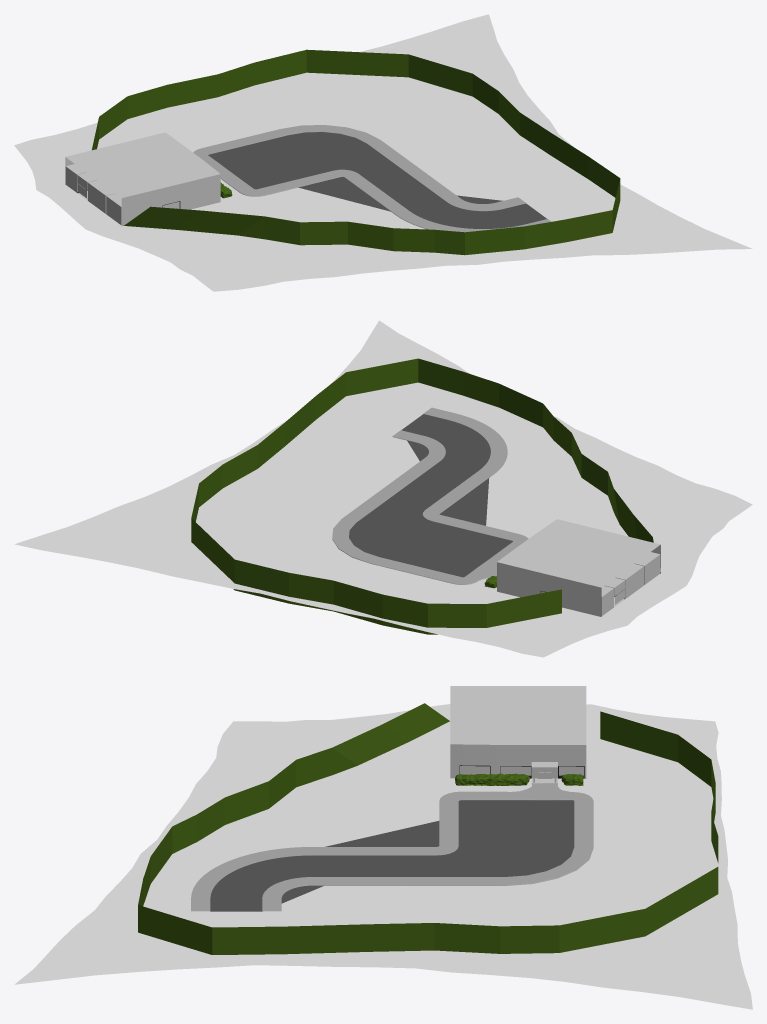
The model's file is OfficeRoom.fbx.
The picture shows the model from 3 angles, top to bottom: view 1: azimuth 30°, elevation 25°; view 2: azimuth 150°, elevation 25°; view 3: azimuth 270°, elevation 25°; orthographic projection. The views are drawn at different scales.
Visible parts, largest first — view 1: Ground, GreenWall, Road, OfficeRoom; view 2: Ground, GreenWall, Road, OfficeRoom; view 3: Ground, GreenWall, Road, OfficeRoom, Shrub.
Part boxes in pixels (x1,y1,x2,y2): Ground: [14, 14, 752, 291]; GreenWall: [92, 49, 620, 255]; Road: [193, 125, 551, 232]; OfficeRoom: [65, 132, 220, 226]; Ground: [14, 320, 752, 657]; GreenWall: [191, 358, 653, 634]; Road: [332, 407, 528, 584]; OfficeRoom: [497, 519, 660, 616]; Ground: [14, 704, 752, 1009]; GreenWall: [138, 703, 718, 954]; Road: [191, 783, 593, 911]; OfficeRoom: [450, 686, 586, 782]; Shrub: [455, 773, 529, 785].
Size of what is drawn, in the model's own units: 17865 by 1138 by 18144.
